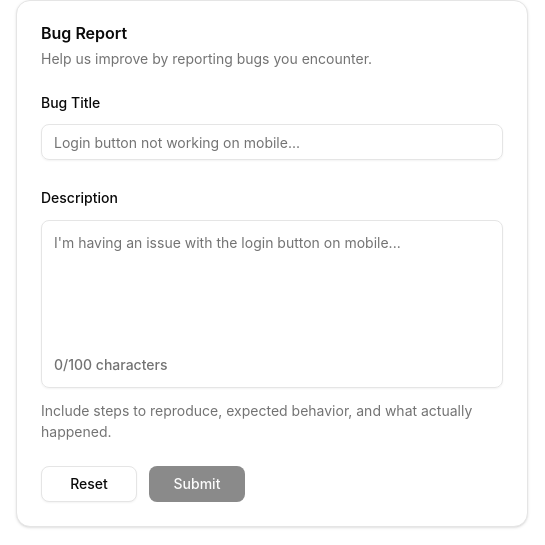
Test: BugReportForm › form submission › shows spinner and disables fieldset while submitting
Step 1. Type "Valid bug title" into the field labelled "Bug Title" → {"x": 272, "y": 142}, box [41,124,503,160]
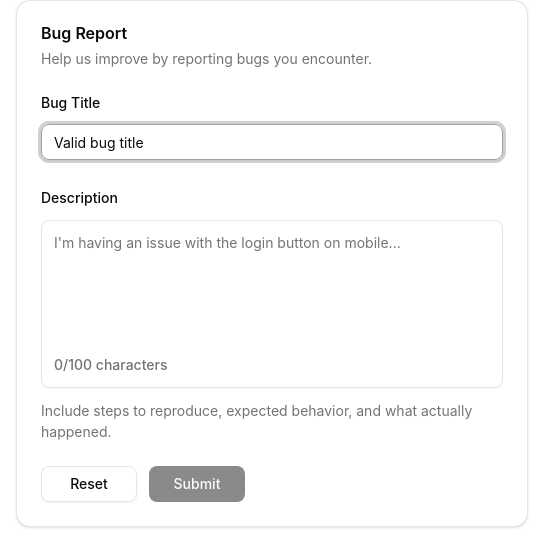
Step 2. Type "This is a valid description that is long enough to pass validation." into the text box labelled "Description" → {"x": 272, "y": 284}, box [42,220,502,348]
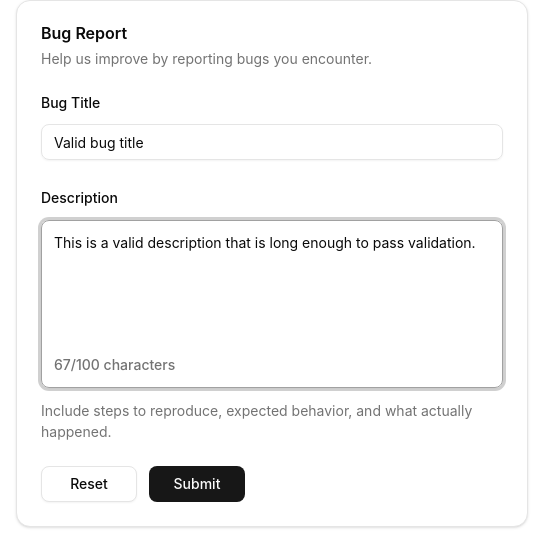
Step 3. Click the button "Submit" → {"x": 197, "y": 484}, box [149,466,245,502]
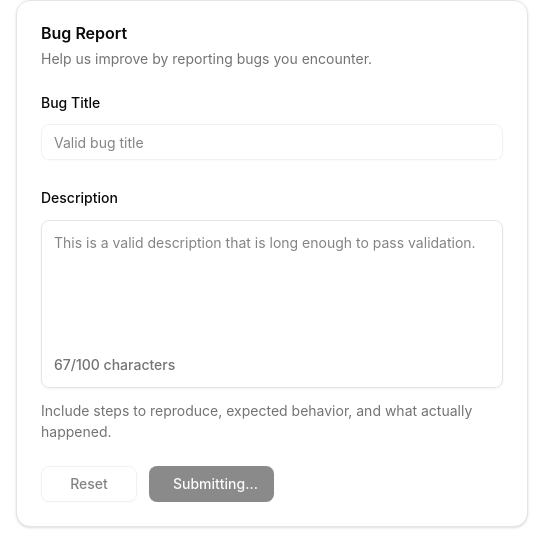
Now the button "Submitting..." is shown, box [149,466,274,502]
Now the element named "submitting..." is disabled
